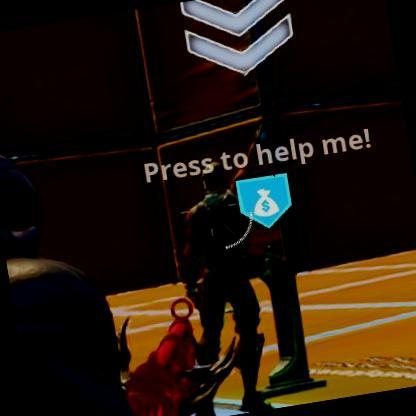person: (165, 168, 285, 416)
